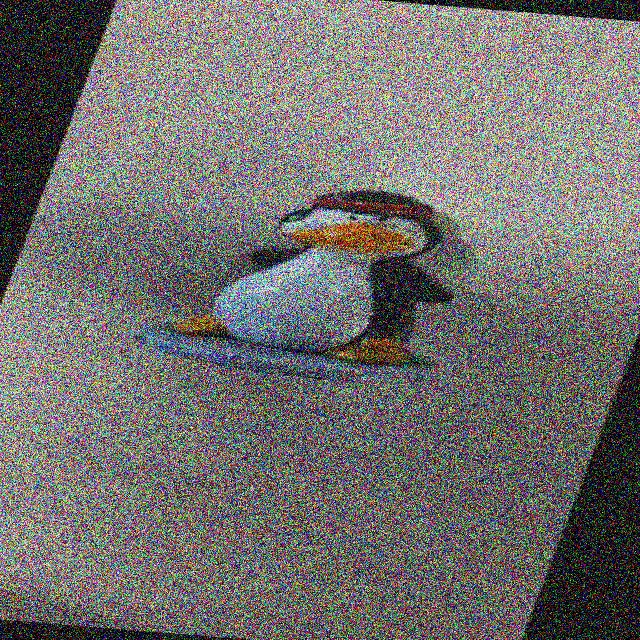Penguin: (117, 170, 514, 394)
